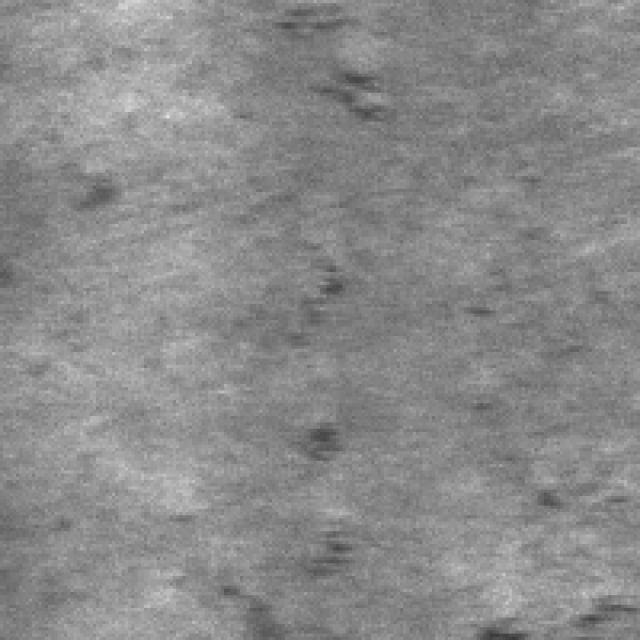rolled-in_scale: (227, 400, 371, 637), (454, 464, 634, 637), (224, 192, 349, 349), (269, 0, 387, 125)
